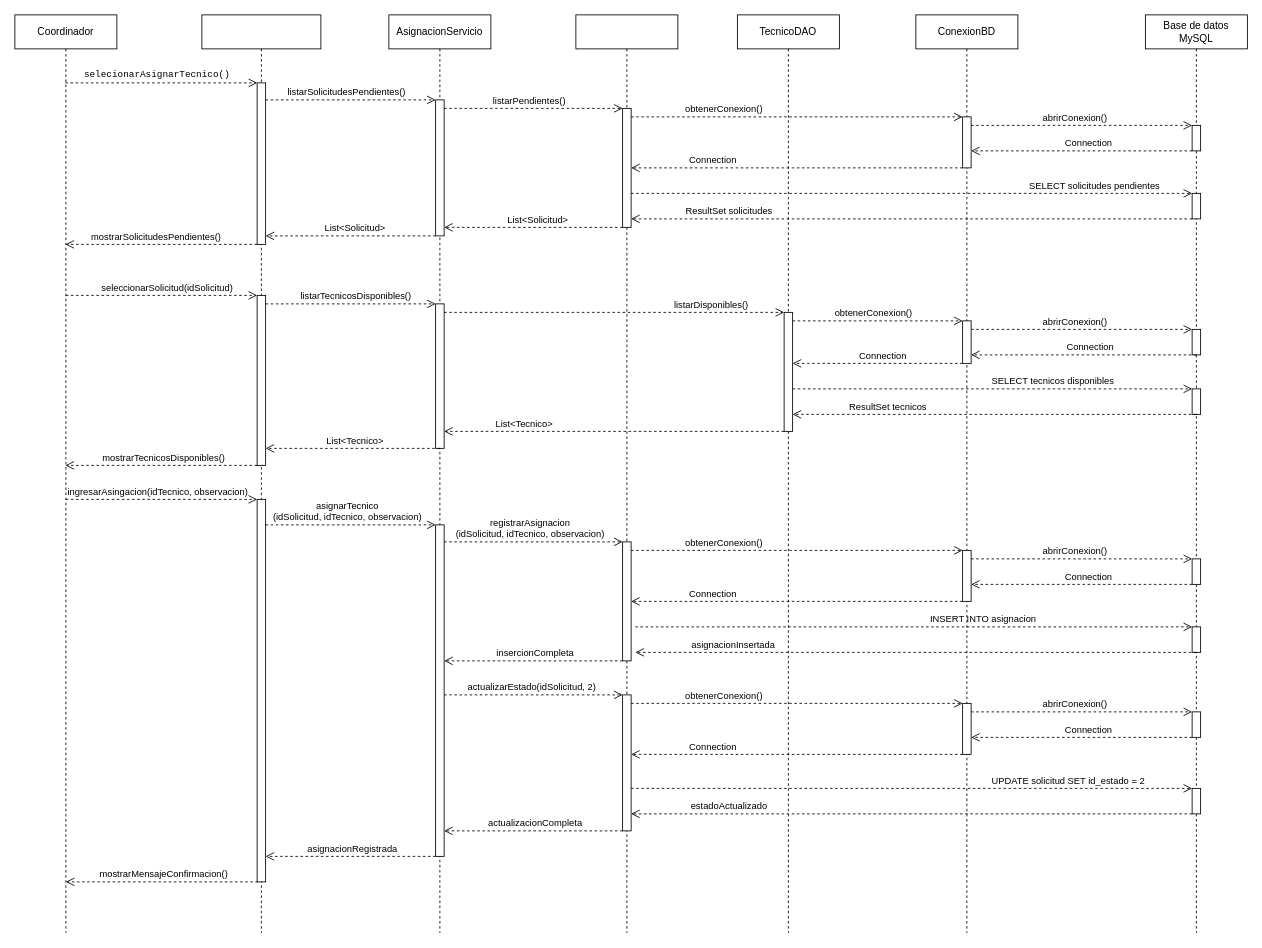
This 1262x948 diagram has some shape labels left out. The shapes that lost their labels are listed below. From the top down, each one's box as (x1, y1, x2, y2) in pixels, then its label:
(201, 14, 321, 933): ListadoSolicitudesVista
(575, 14, 678, 933): SolicitudDAO
